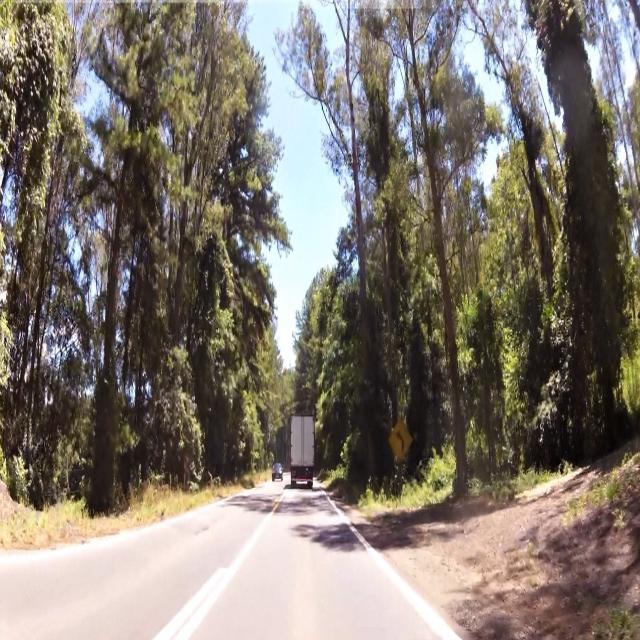A-2a: (391, 414, 411, 459)
